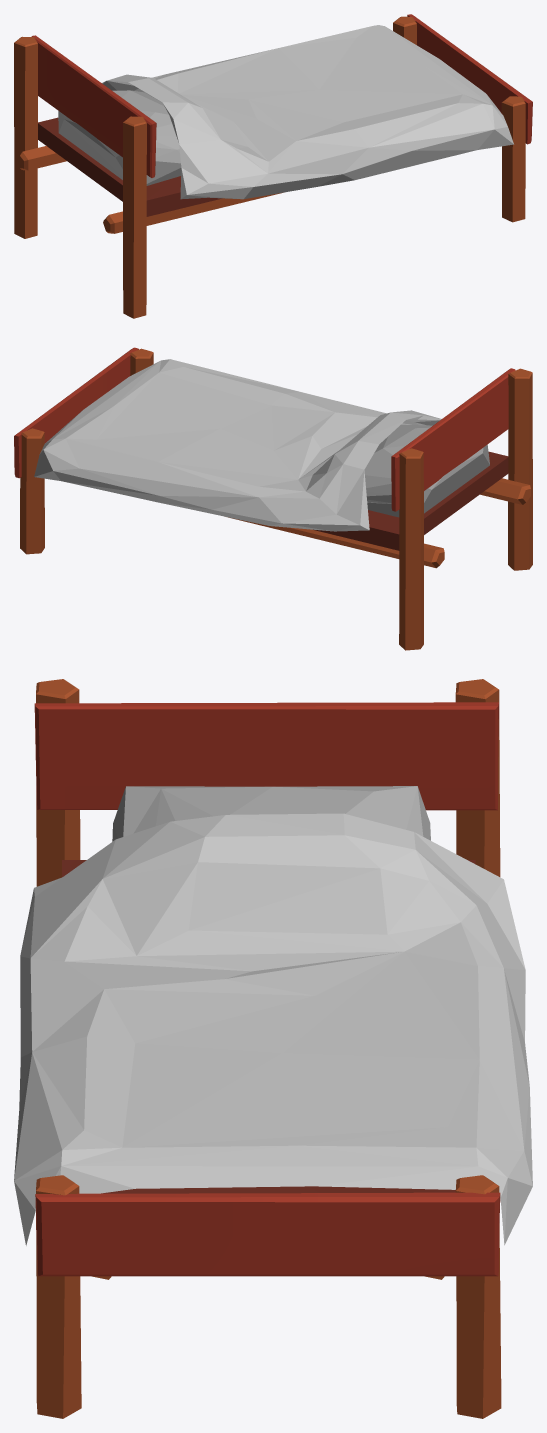
Rendered from Bed.fbx.
3 renders of one model, top to bottom at view 1: azimuth 30°, elevation 25°; view 2: azimuth 150°, elevation 25°; view 3: azimuth 270°, elevation 25°, orthographic. The views are drawn at different scales.
Visible parts, largest first — view 1: Bed; view 2: Bed; view 3: Bed.
Part boxes in pixels (left/top/right/bottom): Bed: left=14, top=14, right=532, bottom=318; Bed: left=14, top=347, right=532, bottom=650; Bed: left=14, top=679, right=532, bottom=1418.
Bounding box in the file's own units: 2.3 × 1.04 × 1.31.
